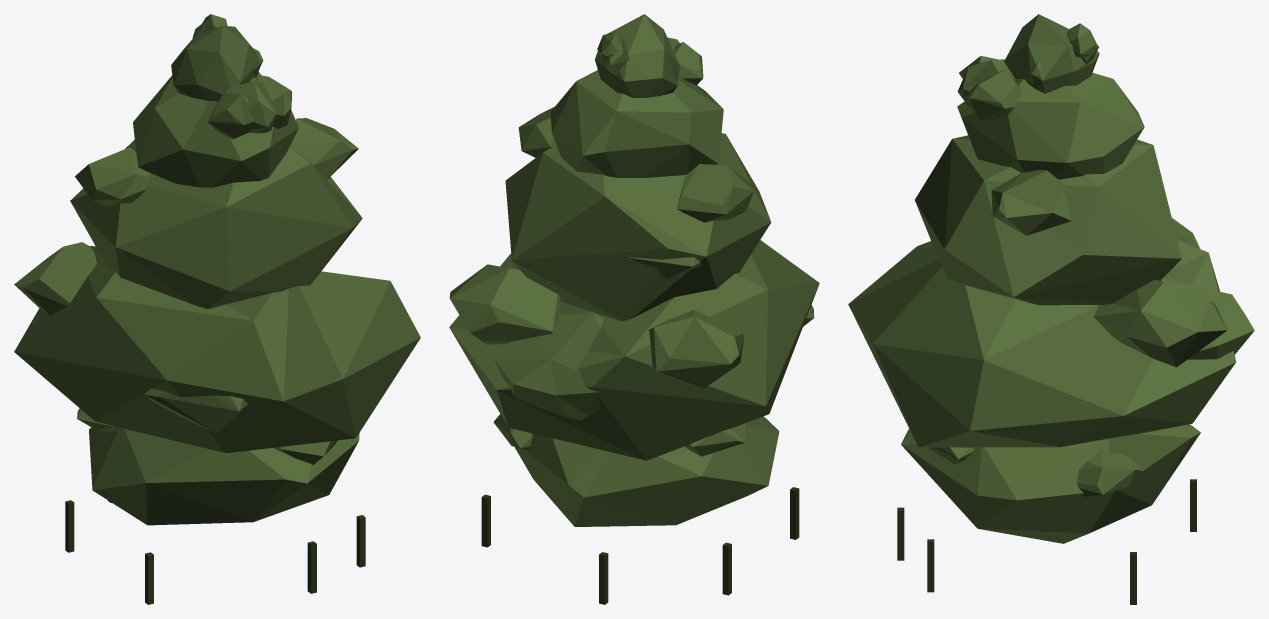
File: Leaves_B.glb
3 views of the same model, side by side, from view 1: azimuth 30°, elevation 25°; view 2: azimuth 150°, elevation 25°; view 3: azimuth 270°, elevation 25° (orthographic). The views are drawn at different scales.
Visible parts, largest first — view 1: Leaves; view 2: Leaves; view 3: Leaves.
Part boxes in pixels (x1,y1,x2,y2): Leaves: [14, 14, 420, 604]; Leaves: [449, 14, 819, 604]; Leaves: [848, 14, 1254, 604].
Size of the model in its own units: 10.37 by 15.7 by 10.84.
